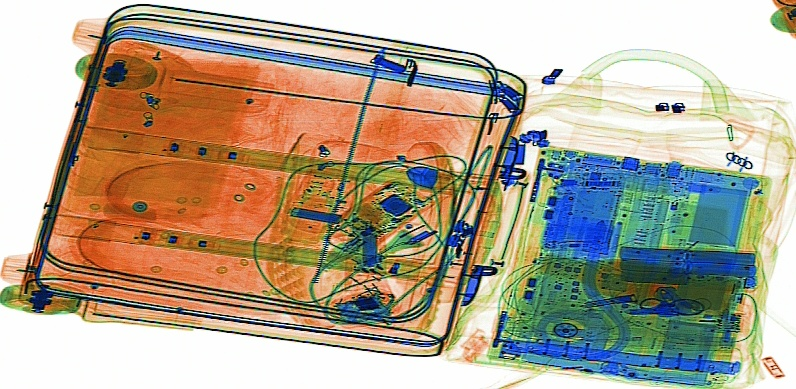powerbank: (615, 241, 758, 294)
